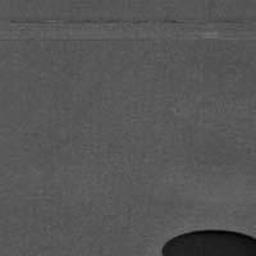Punching: (162, 230, 256, 256)
